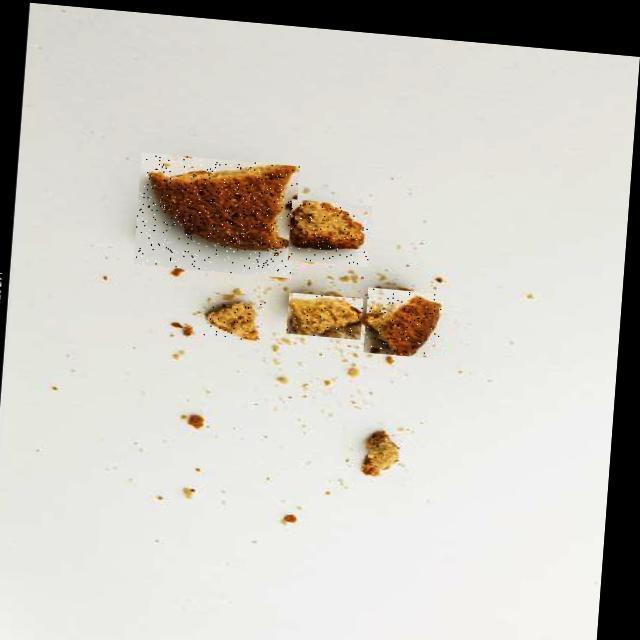cardboard: (1, 2, 637, 637)
